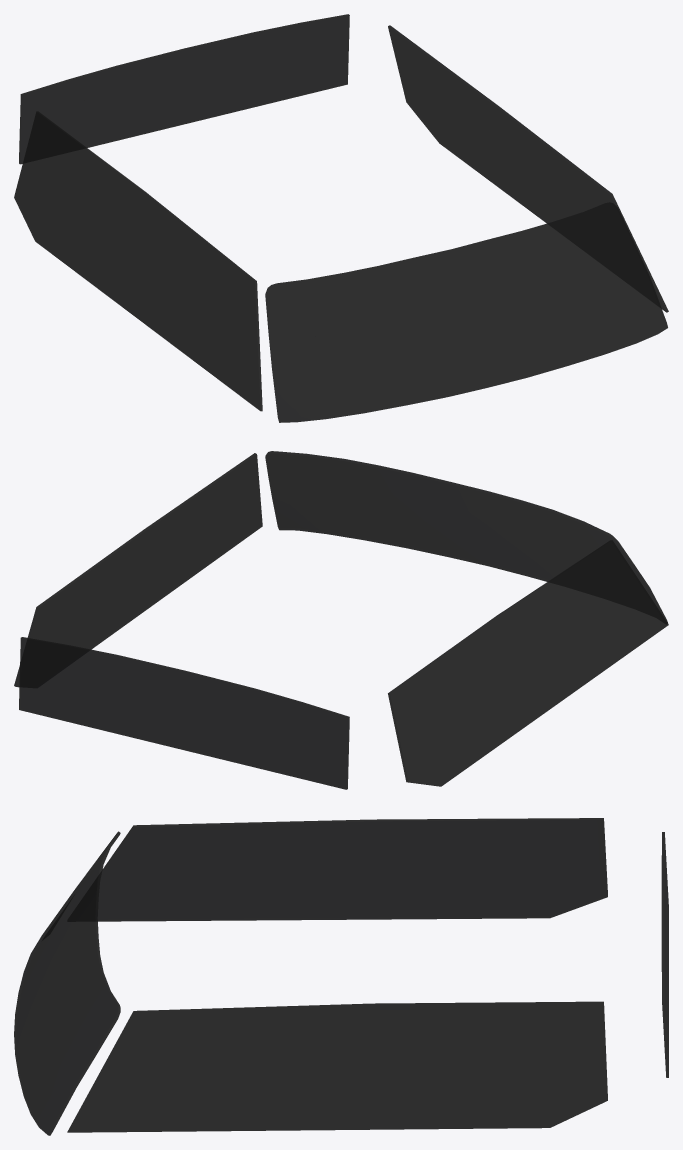
File: hummer-ev-2_Object_2.glb
The picture shows the model from 3 angles, top to bottom: view 1: azimuth 30°, elevation 25°; view 2: azimuth 150°, elevation 25°; view 3: azimuth 270°, elevation 25°; orthographic projection. The views are drawn at different scales.
Visible parts, largest first — view 1: Object_2; view 2: Object_2; view 3: Object_2.
Boxes of the visible parts, left/top/right/bottom form: Object_2: left=14, top=14, right=668, bottom=422; Object_2: left=14, top=451, right=668, bottom=789; Object_2: left=14, top=818, right=668, bottom=1135.
Size of the model in its own units: 1.79 by 0.4936 by 2.33.
1 material, 1 textured.
